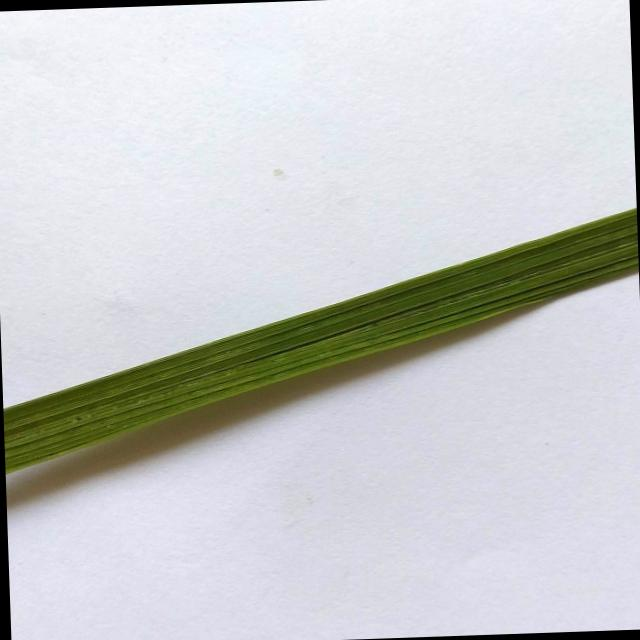Rice_Healthy: (3, 207, 638, 473)
